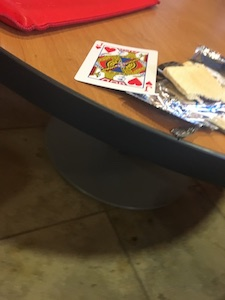JackOfHearts: (74, 38, 160, 98)
